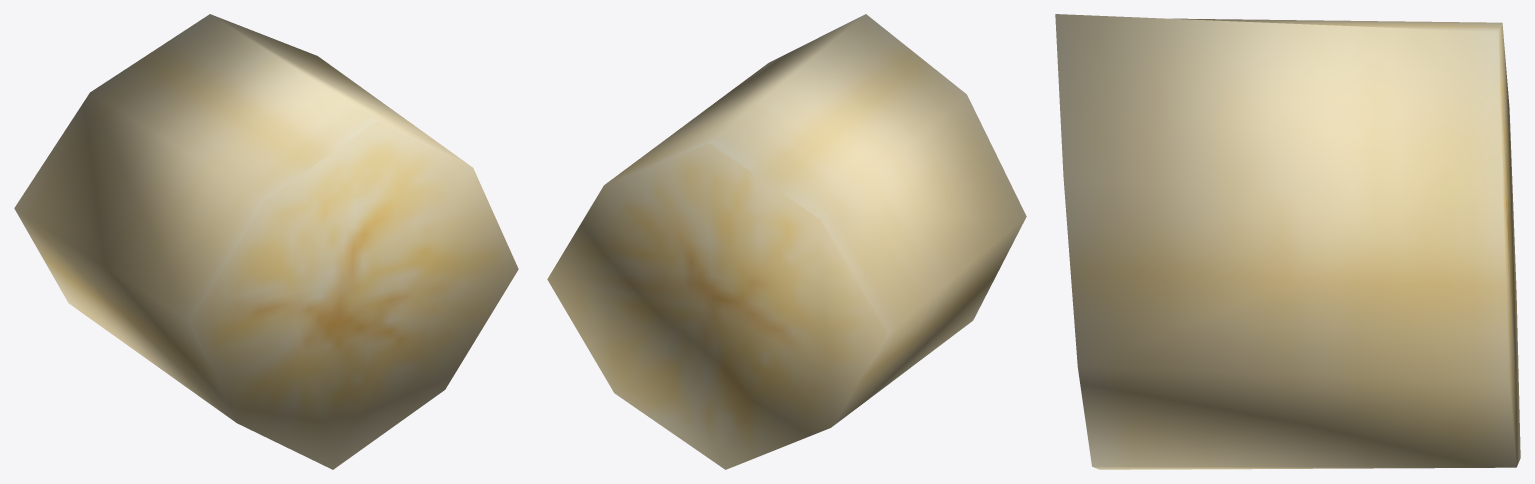
Rendered from jsf_CutBanana_01.fbx.
3 views of the same model, side by side, from view 1: azimuth 30°, elevation 25°; view 2: azimuth 150°, elevation 25°; view 3: azimuth 270°, elevation 25° (orthographic). The views are drawn at different scales.
Visible parts, largest first — view 1: jsf_CutBanana_01; view 2: jsf_CutBanana_01; view 3: jsf_CutBanana_01.
Boxes of the visible parts, left/top/right/bottom form: jsf_CutBanana_01: left=14, top=14, right=518, bottom=469; jsf_CutBanana_01: left=547, top=14, right=1026, bottom=469; jsf_CutBanana_01: left=1055, top=14, right=1520, bottom=469.
Size of the model in its own units: 4.04 by 3.83 by 3.41.
